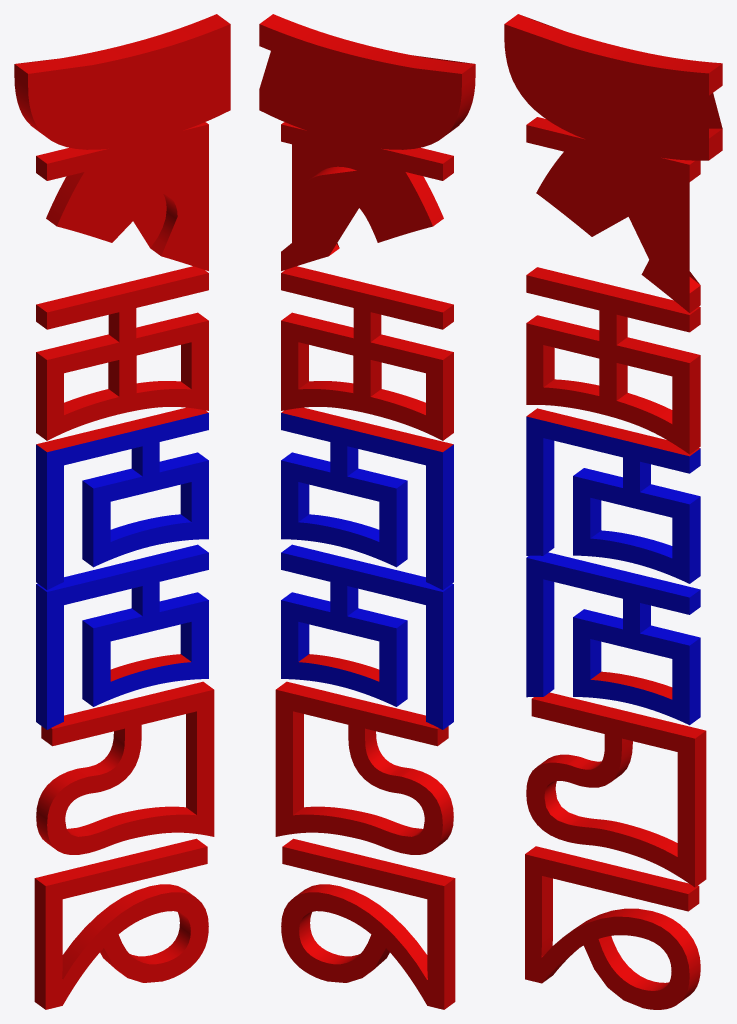
Rendered from Text_sign_6.fbx.
3 views of the same model, side by side, from view 1: azimuth 30°, elevation 25°; view 2: azimuth 150°, elevation 25°; view 3: azimuth 330°, elevation 25° (orthographic).
Visible parts, largest first — view 1: Text_sign_6; view 2: Text_sign_6; view 3: Text_sign_6.
Boxes of the visible parts, box(x1,y1,x2,y2) form: Text_sign_6: box(14, 14, 230, 1009); Text_sign_6: box(259, 14, 475, 1009); Text_sign_6: box(504, 14, 722, 1009).
Size of the model in its own units: 26.89 by 120 by 3.15.
